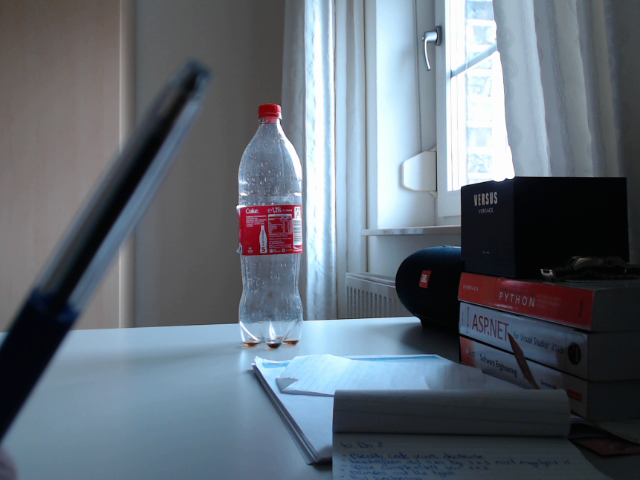bottle: (236, 102, 305, 351)
